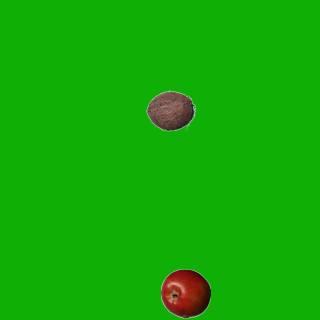Apple Braeburn: (160, 268, 210, 318)
Cocos: (145, 85, 195, 135)
